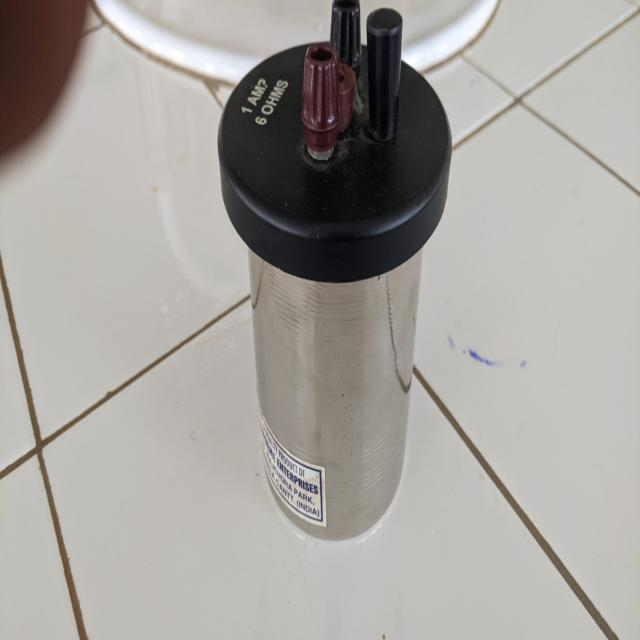Joule-s Calorimeter: (199, 0, 458, 545)
